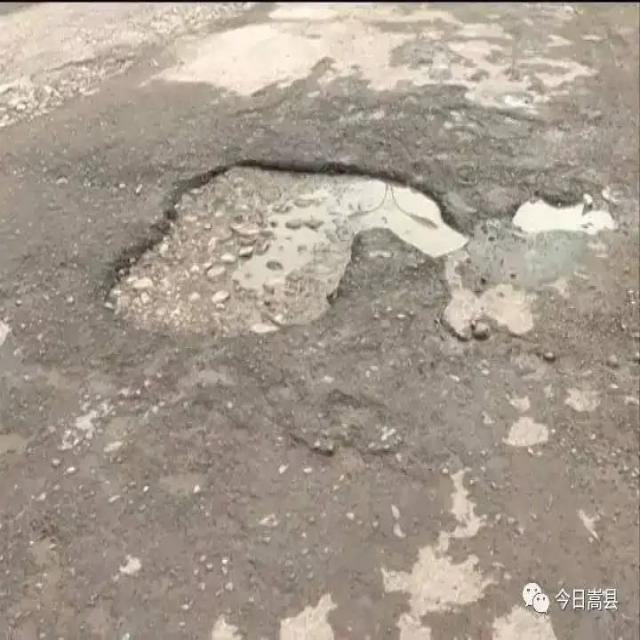Pothole: (91, 152, 469, 352), (505, 189, 618, 243)
